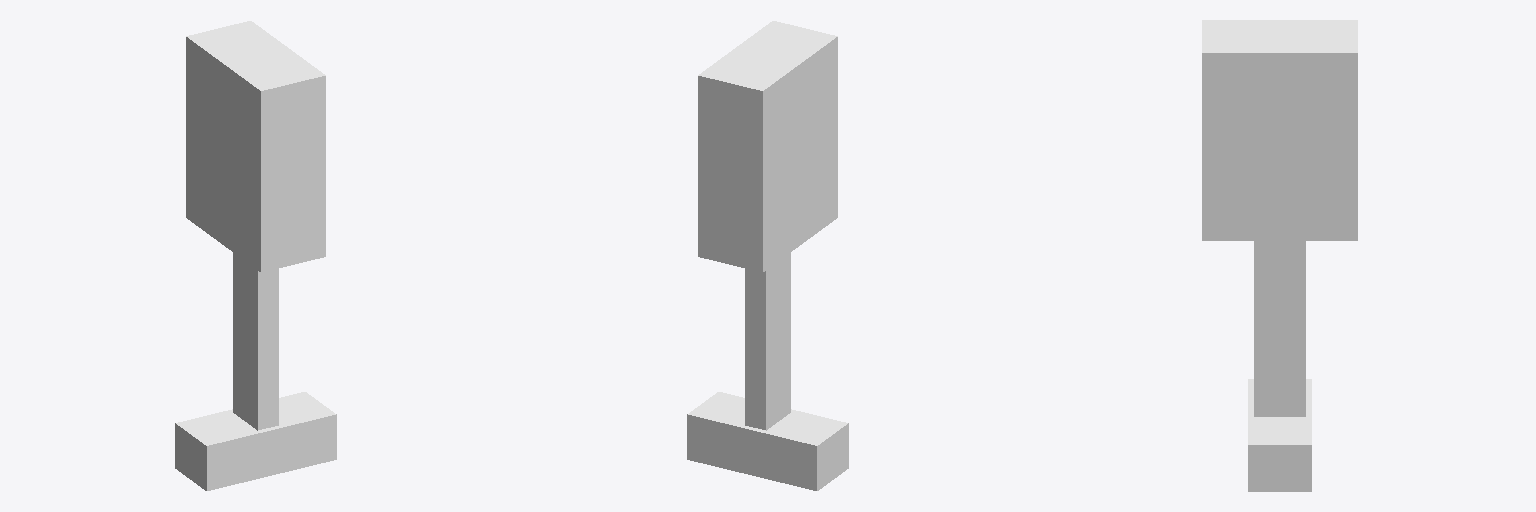
URDF robot description (singleleg):
<?xml version="1.0" encoding="utf-8"?>
<!-- This URDF was automatically created by SolidWorks to URDF Exporter! Originally created by [author] ([email redacted]) 
     Commit Version: 1.6.0-1-g15f4949  Build Version: 1.6.7594.29634
     For more information, please see http://wiki.ros.org/sw_urdf_exporter -->
<robot
  name="singleleg">
  <link
    name="body">
    <inertial>
      <origin
        xyz="-8.921E-19 -1.956E-18 9.8175E-10"
        rpy="0 0 0" />
      <mass
        value="7.9" />
      <inertia
        ixx="0.00012"
        ixy="-9.7442E-21"
        ixz="1.4359E-21"
        iyy="8.76E-05"
        iyz="5.3091E-21"
        izz="5.4E-05" />
    </inertial>
    <visual>
      <origin
        xyz="0 0 0"
        rpy="0 0 0" />
      <geometry>
        <mesh
          filename="meshes/body.obj" />
      </geometry>
      <material
        name="">
        <color
          rgba="1 1 1 1" />
      </material>
    </visual>
    <collision>
      <origin
        xyz="0 0 0"
        rpy="0 0 0" />
      <geometry>
        <mesh
          filename="meshes/body.obj" />
      </geometry>
    </collision>
  </link>
  <link
    name="up_leg">
    <inertial>
      <origin
        xyz="7.8462E-19 -2.1082E-17 -0.025"
        rpy="0 0 0" />
      <mass
        value="1" />
      <inertia
        ixx="4E-06"
        ixy="5.4734E-23"
        ixz="-3.5546E-23"
        iyy="3.7E-06"
        iyz="-2.6487E-22"
        izz="5E-07" />
    </inertial>
    <visual>
      <origin
        xyz="0 0 0"
        rpy="0 0 0" />
      <geometry>
        <mesh
          filename="meshes/up_leg.obj" />
      </geometry>
      <material
        name="">
        <color
          rgba="1 1 1 1" />
      </material>
    </visual>
    <collision>
      <origin
        xyz="0 0 0"
        rpy="0 0 0" />
      <geometry>
        <mesh
          filename="meshes/up_leg.obj" />
      </geometry>
    </collision>
  </link>
  <joint
    name="joint_hip"
    type="revolute">
    <origin
      xyz="0 0 -0.03"
      rpy="0 0 0" />
    <parent
      link="body" />
    <child
      link="up_leg" />
    <axis
      xyz="0 -1 0" />
    <limit
      lower="-3.14"
      upper="3.14"
      effort="100"
      velocity="1" />
  </joint>
  <link
    name="low_leg">
    <inertial>
      <origin
        xyz="6.3874E-18 2.1466E-17 -0.025"
        rpy="0 0 0" />
      <mass
        value="1" />
      <inertia
        ixx="4E-06"
        ixy="-7.389E-23"
        ixz="3.8195E-22"
        iyy="3.7E-06"
        iyz="3.4604E-22"
        izz="5E-07" />
    </inertial>
    <visual>
      <origin
        xyz="0 0 0"
        rpy="0 0 0" />
      <geometry>
        <mesh
          filename="meshes/low_leg.obj" />
      </geometry>
      <material
        name="">
        <color
          rgba="1 1 1 1" />
      </material>
    </visual>
    <collision>
      <origin
        xyz="0 0 0"
        rpy="0 0 0" />
      <geometry>
        <mesh
          filename="meshes/low_leg.obj" />
      </geometry>
    </collision>
  </link>
  <joint
    name="joint_knee"
    type="revolute">
    <origin
      xyz="0 0 -0.05"
      rpy="0 0 0" />
    <parent
      link="up_leg" />
    <child
      link="low_leg" />
    <axis
      xyz="0 -1 0" />
    <limit
      lower="-3.14"
      upper="3.14"
      effort="100"
      velocity="1" />
  </joint>
  <link
    name="heel">
    <inertial>
      <origin
        xyz="0.0053226 8.8969E-18 -1.5613E-17"
        rpy="0 0 0" />
      <mass
        value="0.1" />
      <inertia
        ixx="2.5625E-06"
        ixy="-1.8007E-22"
        ixz="1.027E-21"
        iyy="1E-05"
        iyz="2.9722E-38"
        izz="1.0563E-05" />
    </inertial>
    <visual>
      <origin
        xyz="0 0 0"
        rpy="0 0 0" />
      <geometry>
        <mesh
          filename="meshes/heel.obj" />
      </geometry>
      <material
        name="">
        <color
          rgba="1 1 1 1" />
      </material>
    </visual>
    <collision>
      <origin
        xyz="0 0 0"
        rpy="0 0 0" />
      <geometry>
        <mesh
          filename="meshes/heel.obj" />
      </geometry>
    </collision>
  </link>
  <joint
    name="joint_ankle"
    type="revolute">
    <origin
      xyz="-0.00532262680792502 0 -0.05"
      rpy="0 0 0" />
    <parent
      link="low_leg" />
    <child
      link="heel" />
    <axis
      xyz="0 1 0" />
    <limit
      lower="-3.14"
      upper="3.14"
      effort="100"
      velocity="1" />
  </joint>

  <frame link="heel" name="frame_toe" xyz="0.03 0 0"/>
  <frame link="heel" name="frame_heel" xyz="-0.03 0 0"/>

</robot>

--- Render facts (derived) ---
3 views of the same robot in one strip: view 1: azimuth 30°, elevation 25°; view 2: azimuth 150°, elevation 25°; view 3: azimuth 270°, elevation 25° (orthographic).
Robot: singleleg — 4 links, 3 joints (3 revolute); root link body; default pose: every joint at zero.
Links seen in each view (by area): view 1: body, heel, low_leg, up_leg; view 2: body, heel, up_leg, low_leg; view 3: body, heel, low_leg, up_leg.
Boxes of the visible links, bbox=[...] form: body: bbox=[186, 21, 325, 272]; heel: bbox=[175, 392, 336, 490]; low_leg: bbox=[233, 313, 278, 430]; up_leg: bbox=[233, 253, 278, 350]; body: bbox=[698, 21, 837, 272]; heel: bbox=[687, 392, 848, 490]; up_leg: bbox=[745, 253, 790, 350]; low_leg: bbox=[745, 329, 790, 430]; body: bbox=[1202, 20, 1357, 240]; heel: bbox=[1248, 379, 1311, 491]; low_leg: bbox=[1254, 312, 1305, 416]; up_leg: bbox=[1254, 241, 1305, 334].
Size in the robot's own frame: 0.06 by 0.06 by 0.18 metres.
Meshes: 4 distinct files referenced, 4 mesh visuals loaded (4 OBJ).